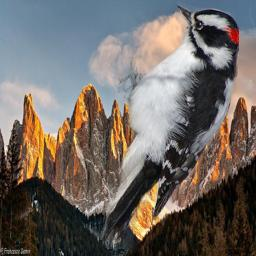Woodpecker: (99, 2, 239, 249)
